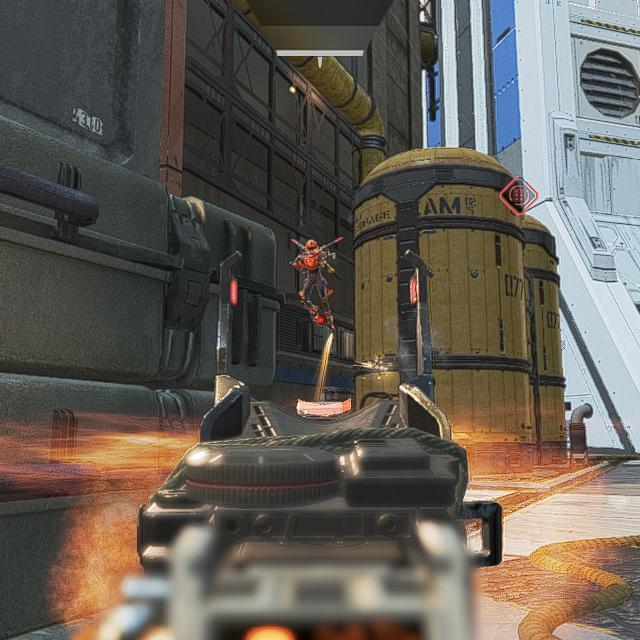avatar: (289, 236, 343, 329)
